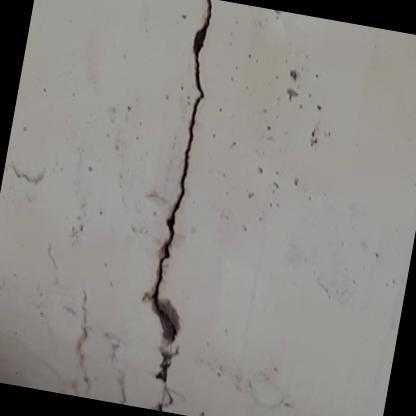crack: (141, 0, 211, 411)
